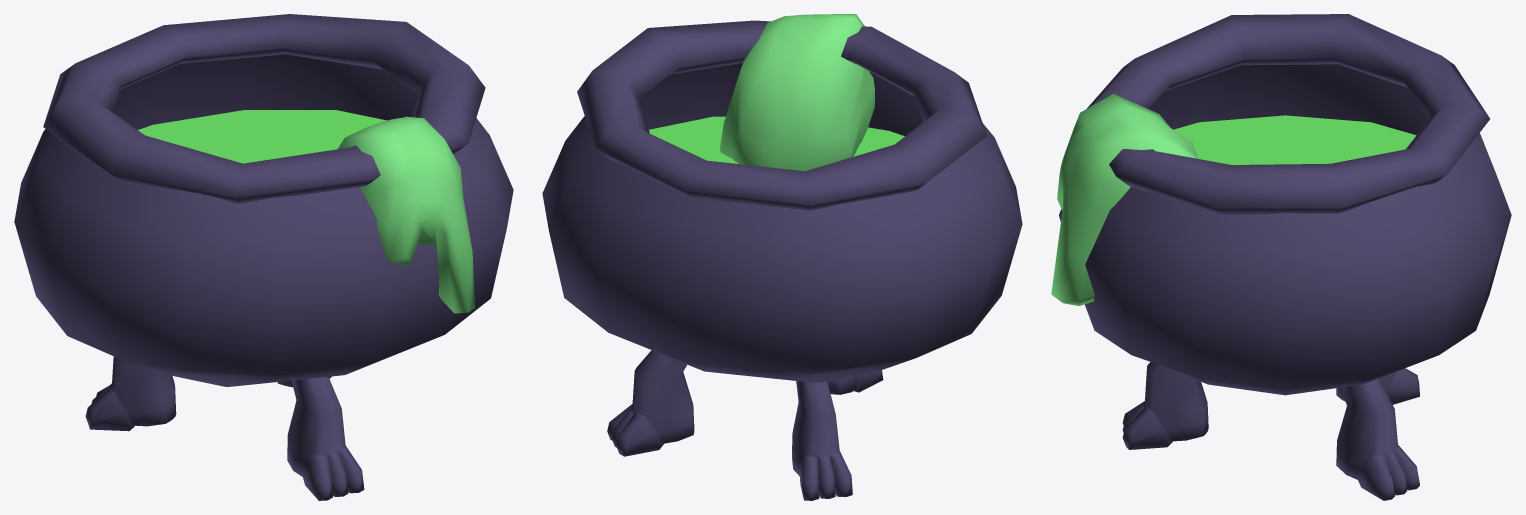
File: props_chaudron.fbx
3 renders of one model, left to right at view 1: azimuth 30°, elevation 25°; view 2: azimuth 150°, elevation 25°; view 3: azimuth 270°, elevation 25°, orthographic. The views are drawn at different scales.
Parts seen in each view (by area): view 1: Chaudron; view 2: Chaudron; view 3: Chaudron.
Part boxes in pixels (left/top/right/bottom): Chaudron: left=14, top=14, right=513, bottom=500; Chaudron: left=542, top=14, right=1022, bottom=500; Chaudron: left=1051, top=14, right=1511, bottom=500.
Size of the model in its own units: 117 by 91.96 by 109.
